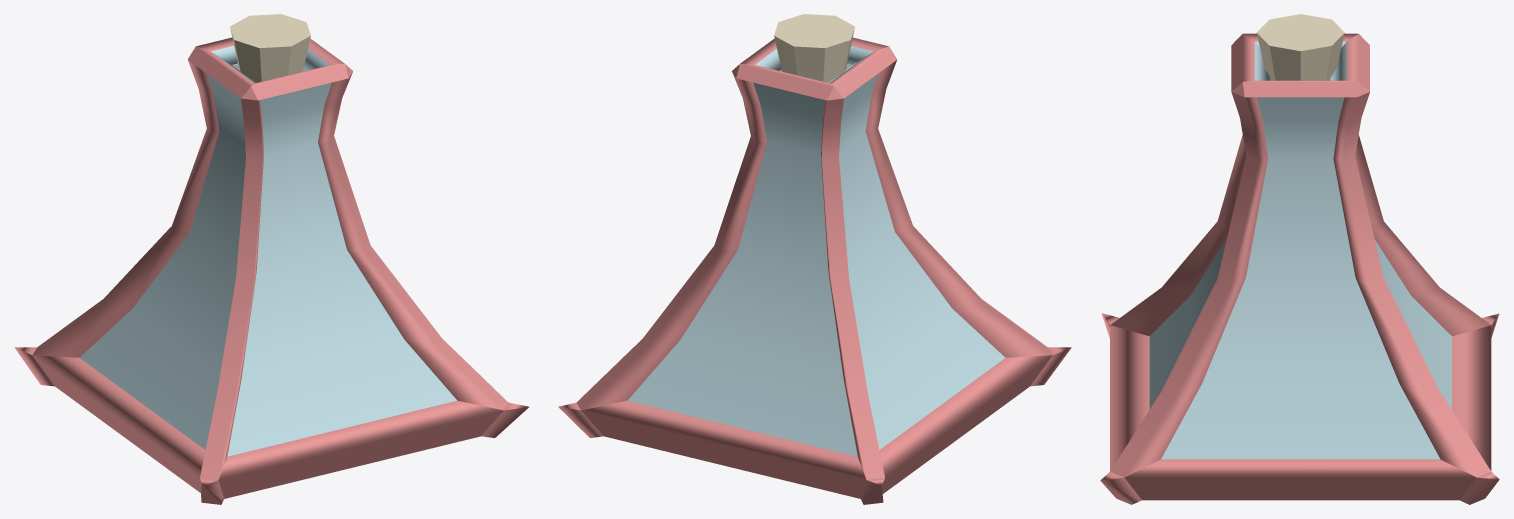
Rendered from Geo_Bottle_A.fbx.
The picture shows the model from 3 angles, left to right: view 1: azimuth 30°, elevation 25°; view 2: azimuth 150°, elevation 25°; view 3: azimuth 270°, elevation 25°; orthographic projection. The views are drawn at different scales.
Visible parts, largest first — view 1: Glass_GEO, Cork_GEO; view 2: Glass_GEO, Cork_GEO; view 3: Glass_GEO, Cork_GEO.
Part boxes in pixels (x1,y1,x2,y2): Glass_GEO: [14, 37, 528, 504]; Cork_GEO: [230, 14, 310, 82]; Glass_GEO: [558, 37, 1071, 504]; Cork_GEO: [774, 14, 854, 82]; Glass_GEO: [1100, 33, 1499, 504]; Cork_GEO: [1256, 14, 1344, 80].
Bounding box in the file's own units: 29.48 × 32.47 × 29.71.
